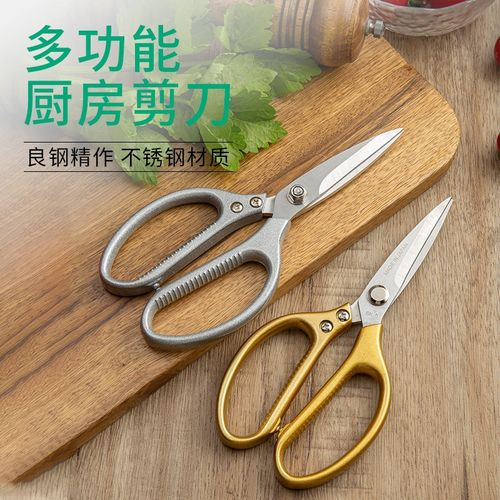scissor: (214, 192, 457, 492), (98, 130, 406, 354)
